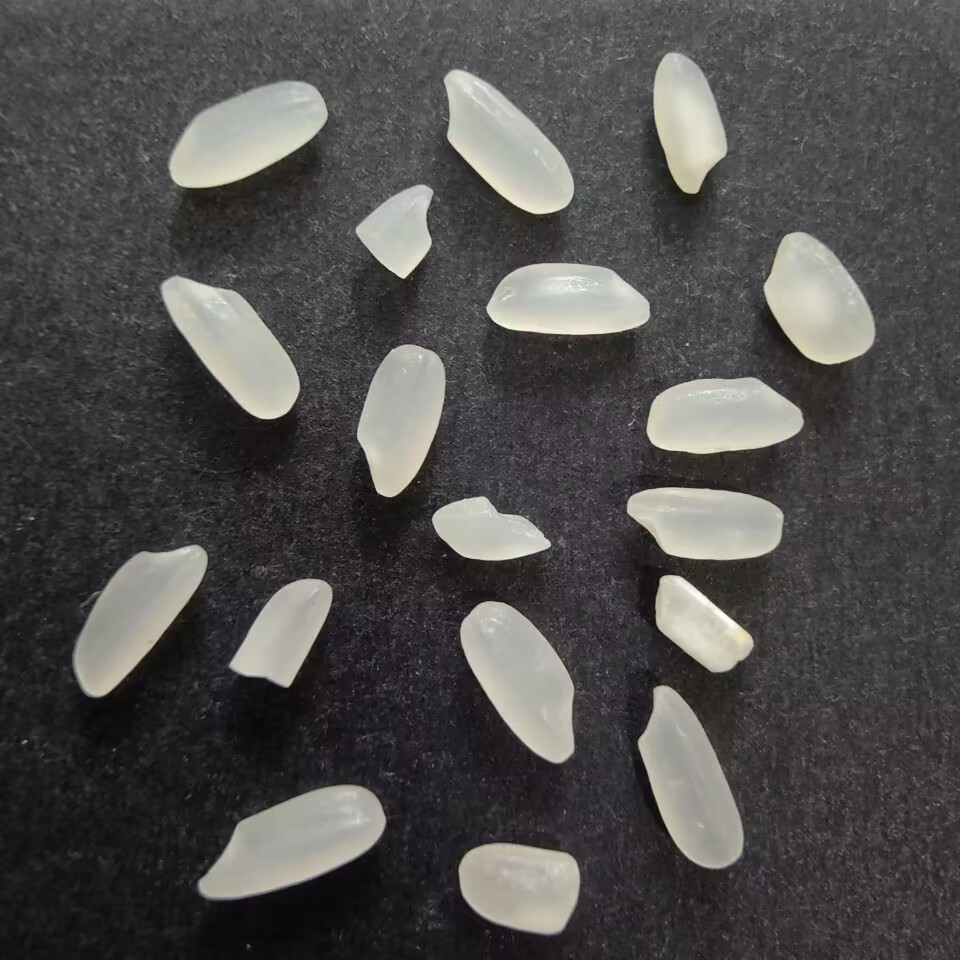broken: (226, 574, 338, 692), (455, 840, 582, 941), (652, 574, 755, 674), (429, 492, 554, 564), (349, 179, 435, 283)
rice: (194, 780, 390, 902), (67, 539, 211, 700), (633, 681, 749, 870), (156, 272, 302, 422), (440, 64, 576, 216), (456, 597, 577, 767), (169, 77, 330, 191), (759, 229, 879, 366), (354, 343, 445, 499), (645, 372, 807, 457), (482, 259, 654, 339), (622, 484, 789, 563), (649, 49, 729, 198)
